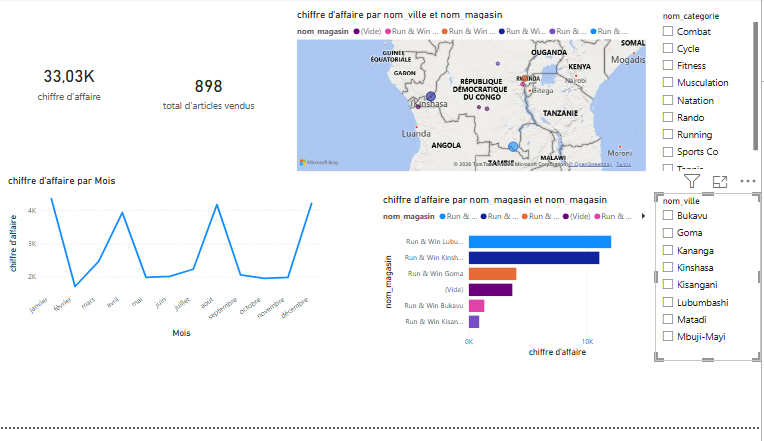

The page's visual inventory and layout, read from the dashboard file:
{"tool":"powerbi","page":{"name":"Page 1","canvas":[1280,720],"ordinal":0},"visuals":[{"type":"card","fields":{"Values":["public categories.chiffre d'affaire"]},"box":[10.1,0,215,280.5],"z":0},{"type":"card","fields":{"Values":["public categories.total d'articles vendus"]},"box":[250.3,16.8,203.3,278.8],"z":1000},{"type":"lineChart","fields":{"Y":["public categories.chiffre d'affaire"],"Category":["public ventes.date_vente.Variation.Hiérarchie de dates.Mois"]},"box":[10.1,295.6,535.9,280.5],"z":2000},{"type":"barChart","fields":{"Y":["public categories.chiffre d'affaire"],"Category":["public magasins.nom_magasin"],"Series":["public magasins.nom_magasin"]},"box":[640,327.6,461.9,280.5],"z":3000},{"type":"map","fields":{"Series":["public magasins.nom_magasin"],"Size":["public categories.chiffre d'affaire"],"Category":["public villes.nom_ville"]},"box":[495.5,16.8,596.3,278.8],"z":4000},{"type":"slicer","fields":{"Values":["public categories.nom_categorie"]},"box":[1101.9,16.8,178.1,278.8],"z":4001},{"type":"slicer","fields":{"Values":["public villes.nom_ville"]},"box":[1102,328,178,281],"z":4002}]}

Visuals, with their boxes on the page's 1280x720 design canvas (x1, y1, x2, y2). These are canvas units, not pixel positions in the 764x441 screenshot, which may show the page scaled, cropped or inside an application window:
card - public categories.chiffre d'affaire: bbox=[10, 0, 225, 280]
card - public categories.total d'articles vendus: bbox=[250, 17, 454, 296]
lineChart - public categories.chiffre d'affaire x public ventes.date_vente.Variation.Hiérarchie de dates.Mois: bbox=[10, 296, 546, 576]
barChart - public categories.chiffre d'affaire x public magasins.nom_magasin: bbox=[640, 328, 1102, 608]
map - public magasins.nom_magasin x public categories.chiffre d'affaire: bbox=[496, 17, 1092, 296]
slicer - public categories.nom_categorie: bbox=[1102, 17, 1280, 296]
slicer - public villes.nom_ville: bbox=[1102, 328, 1280, 609]
